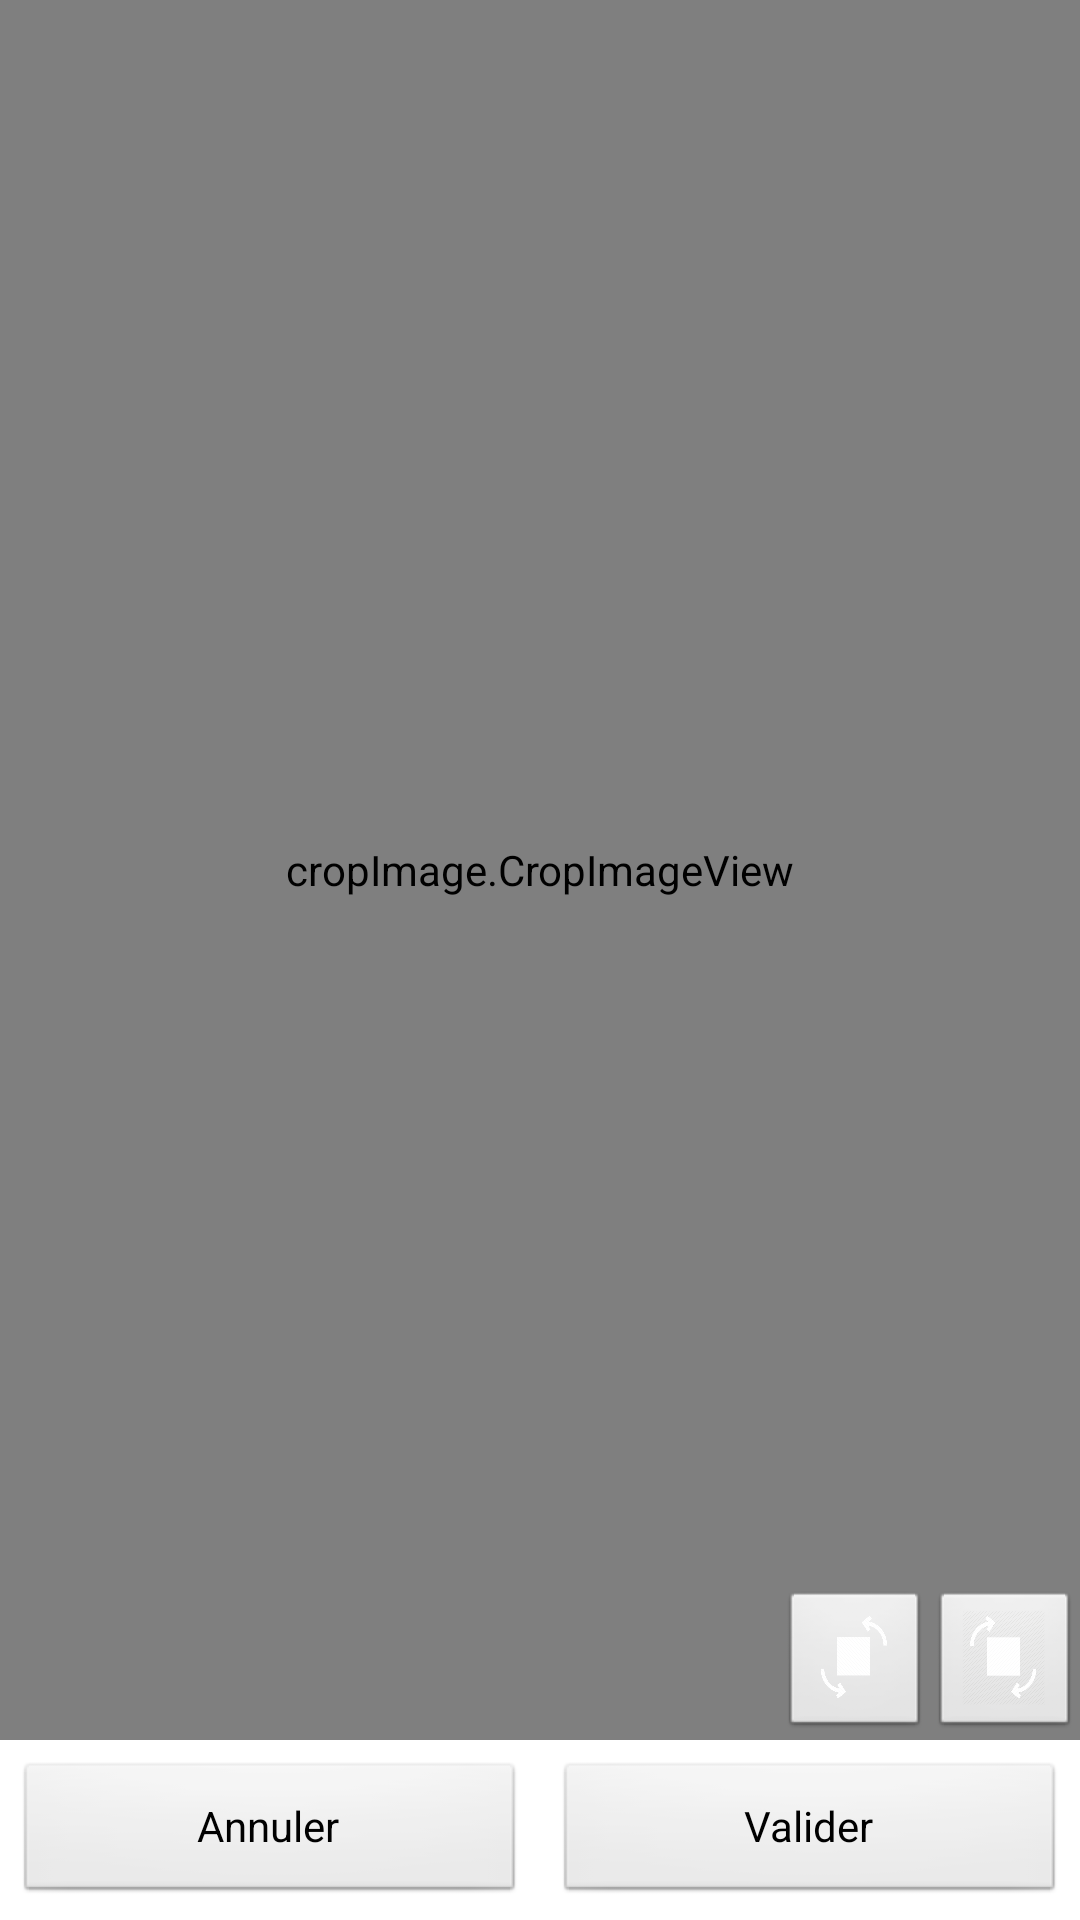

Where icons sit on this 1080px×1920px app screen, as (x1, y1, x2, y2):
rotate left: (789, 1594, 919, 1725)
rotate right: (939, 1594, 1069, 1725)
